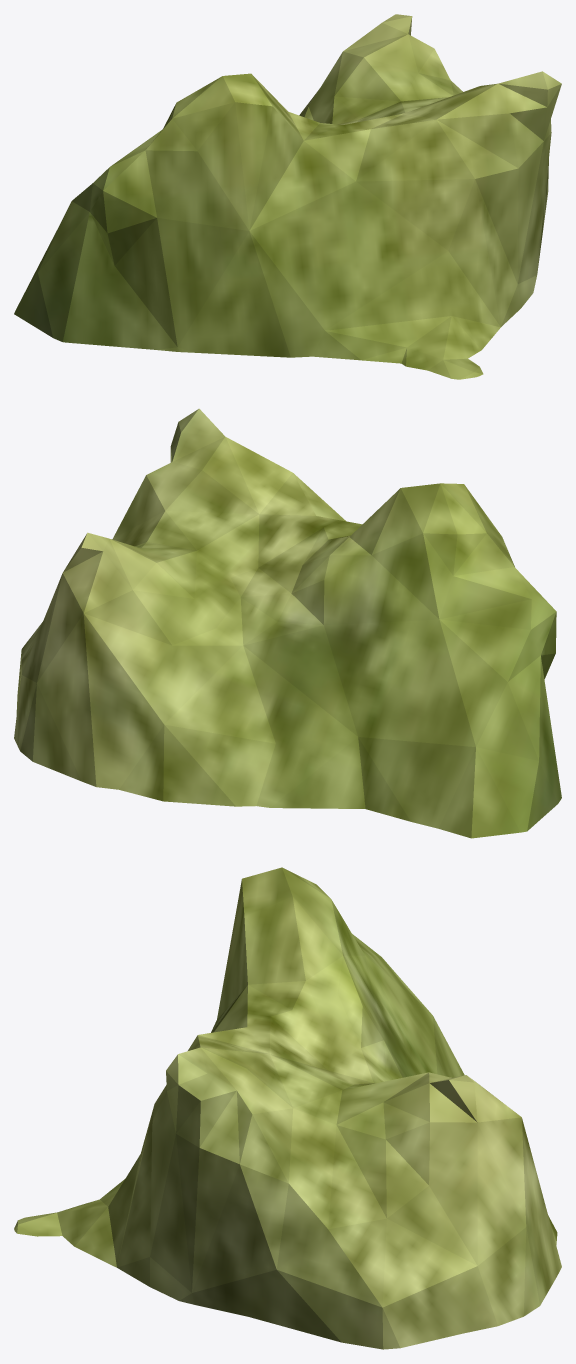
3 renders of one model, top to bottom at view 1: azimuth 30°, elevation 25°; view 2: azimuth 150°, elevation 25°; view 3: azimuth 270°, elevation 25°, orthographic. The views are drawn at different scales.
Size of the model in its own units: 1.12 by 0.5332 by 0.9288.
Materials: 1 (1 with a texture image).
